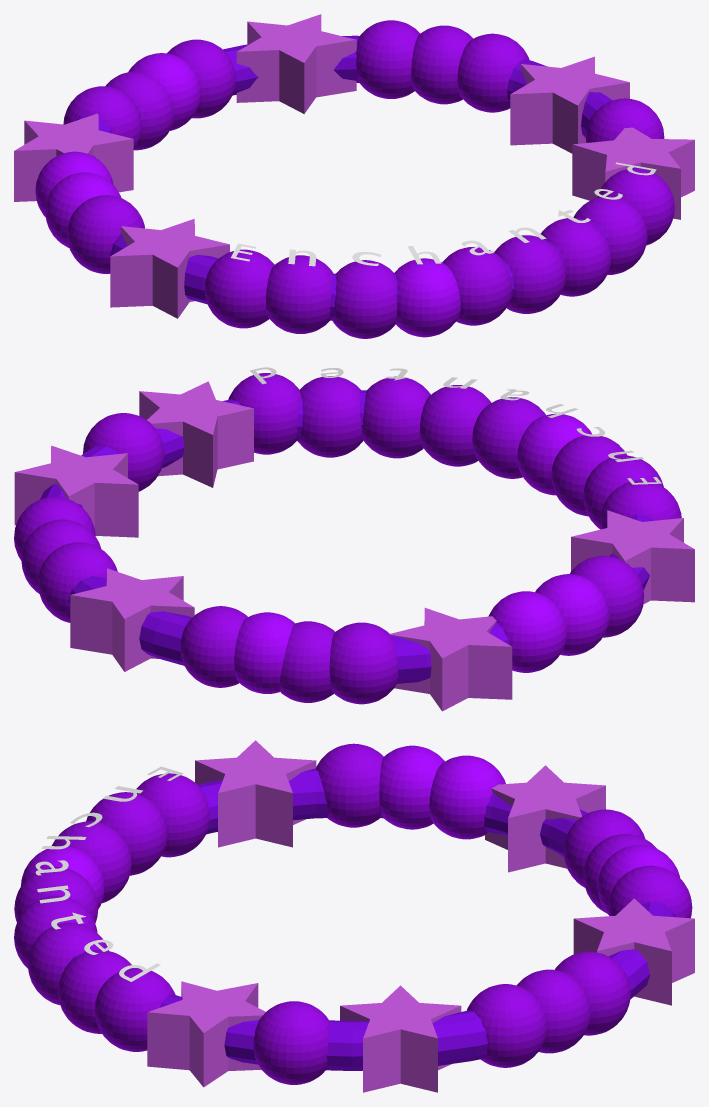
File: SpeakNow_Enchanted.fbx
3 renders of one model, top to bottom at view 1: azimuth 30°, elevation 25°; view 2: azimuth 150°, elevation 25°; view 3: azimuth 270°, elevation 25°, orthographic. The views are drawn at different scales.
Visible parts, largest first — view 1: Star.062, Star.069, Star.061, Star.067, Star.070, Sphere.371, Sphere.369, Sphere.370, Torus.019, Sphere.372, Sphere.378, Sphere.380 (+14 smaller); view 2: Star.070, Star.067, Star.062, Star.061, Star.069, Torus.019, Sphere.376, Sphere.383, Sphere.367, Sphere.366, Sphere.381, Sphere.365 (+14 smaller); view 3: Torus.019, Star.067, Star.069, Star.061, Star.062, Star.070, Sphere.382, Sphere.380, Sphere.367, Sphere.377, Sphere.375, Sphere.368 (+14 smaller).
Part boxes in pixels (box(x1,y1,x2,y2)): Star.062: box(236, 14, 356, 113); Star.069: box(110, 219, 229, 318); Star.061: box(510, 56, 629, 153); Star.067: box(572, 127, 694, 219); Star.070: box(14, 113, 133, 201); Sphere.371: box(266, 255, 333, 333); Sphere.369: box(394, 258, 460, 337); Sphere.370: box(332, 260, 396, 338); Torus.019: box(75, 35, 647, 320); Sphere.372: box(204, 249, 274, 328); Sphere.378: box(356, 20, 419, 98); Sphere.380: box(457, 33, 529, 112); Star.070: box(390, 608, 512, 711); Star.067: box(139, 381, 253, 487); Star.062: box(70, 568, 194, 671); Star.061: box(14, 445, 138, 537); Star.069: box(571, 510, 694, 604); Torus.019: box(40, 390, 653, 683); Sphere.376: box(329, 622, 398, 704); Sphere.383: box(297, 376, 363, 457); Sphere.367: box(488, 591, 566, 672); Sphere.366: box(362, 376, 430, 458); Sphere.381: box(419, 385, 491, 466); Sphere.365: box(180, 606, 247, 687); Torus.019: box(64, 768, 674, 1070); Star.067: box(147, 981, 265, 1087); Star.069: box(195, 740, 316, 847); Star.061: box(340, 985, 461, 1092); Star.062: box(573, 898, 694, 1005); Star.070: box(485, 765, 605, 872); Sphere.382: box(253, 1001, 329, 1084); Sphere.380: box(466, 984, 546, 1067); Sphere.367: box(429, 755, 505, 839); Sphere.377: box(316, 743, 383, 827); Sphere.375: box(94, 968, 175, 1051); Sphere.368: box(379, 745, 444, 829).
Size of the model in its own units: 117 by 15.91 by 114.
